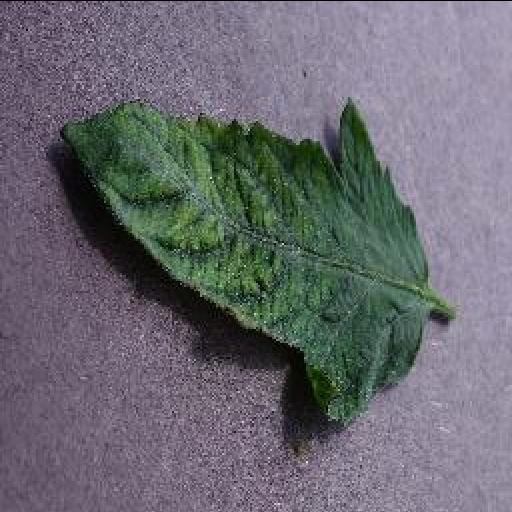disease_tomato: (56, 94, 428, 422)
